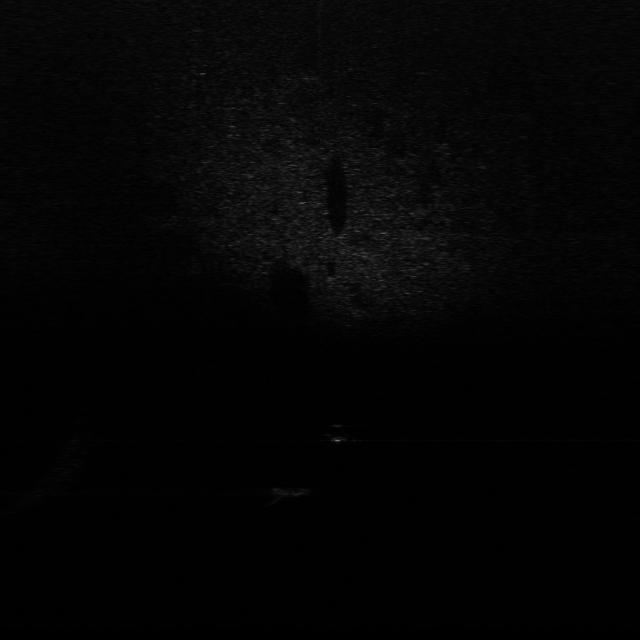ball: (322, 421, 357, 446)
square cage: (260, 482, 322, 500)
